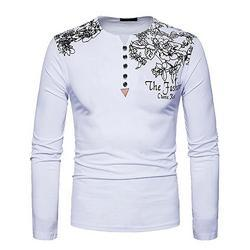T-Shirt: (30, 14, 228, 243)
